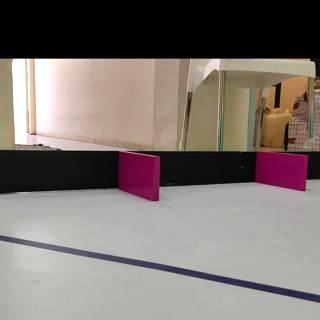xparking: (122, 156, 158, 196), (258, 155, 304, 186)
